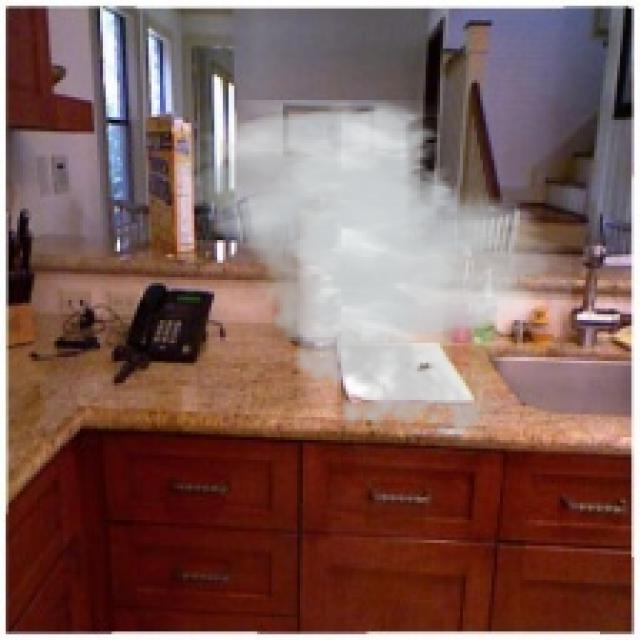smoke: (174, 100, 572, 449)
